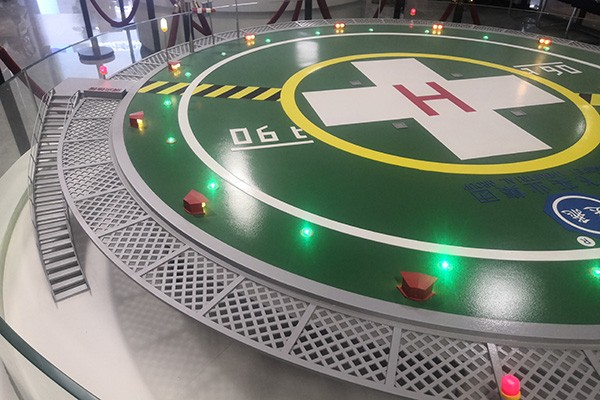H: (394, 82, 477, 116)
